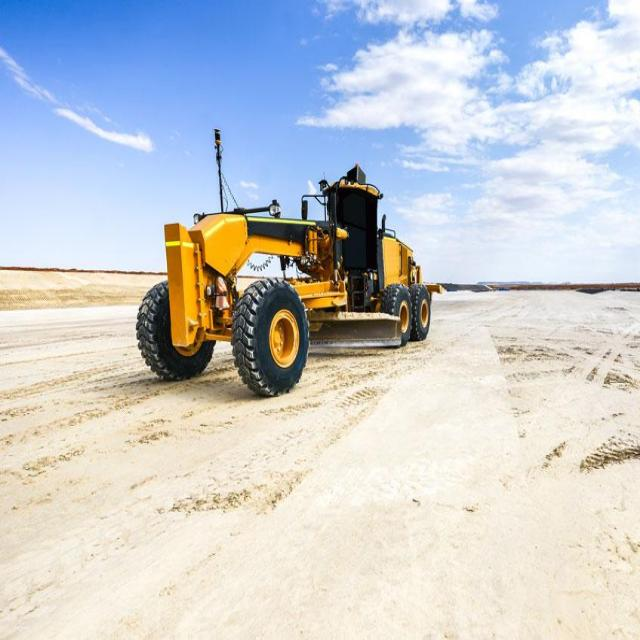Grader: (128, 170, 454, 402)
